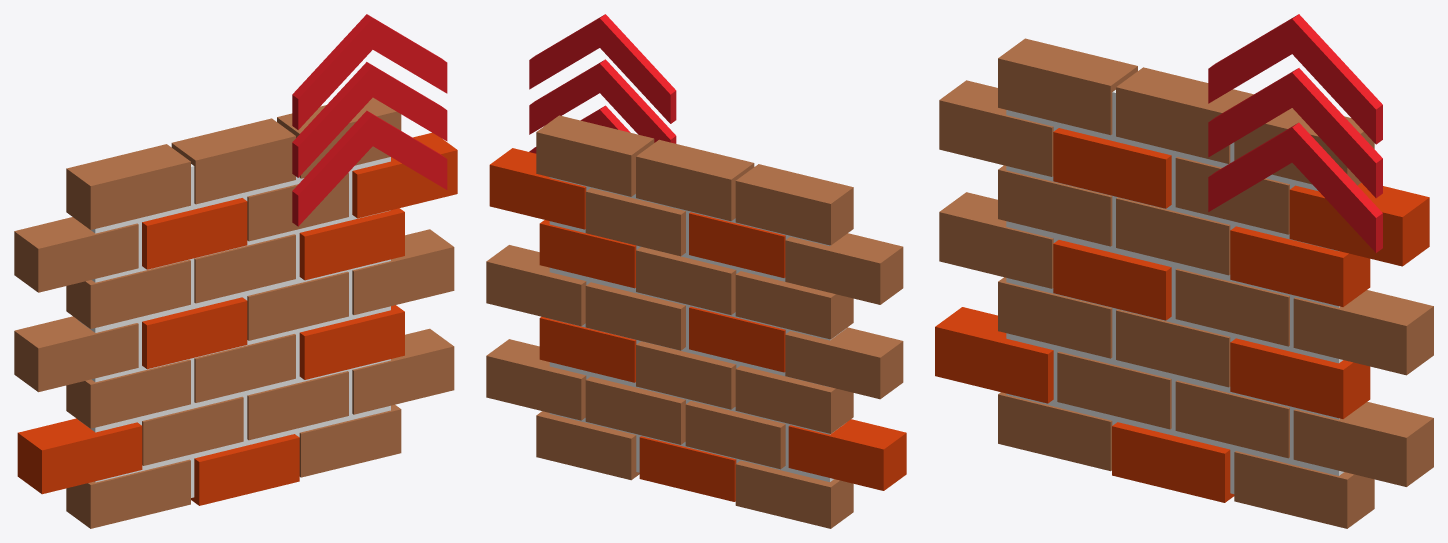
Rendered from WallPassUp.glb.
3 views of the same model, side by side, from view 1: azimuth 30°, elevation 25°; view 2: azimuth 150°, elevation 25°; view 3: azimuth 330°, elevation 25° (orthographic). The views are drawn at different scales.
Parts seen in each view (by area): view 1: Plane.003; view 2: Plane.003; view 3: Plane.003.
Part boxes in pixels (box(x1,y1,x2,y2)): Plane.003: box(14, 14, 457, 528); Plane.003: box(486, 14, 906, 528); Plane.003: box(935, 14, 1433, 528).
Bounding box in the file's own units: 19.83 × 20.58 × 2.84.
5 materials, 5 textured.
